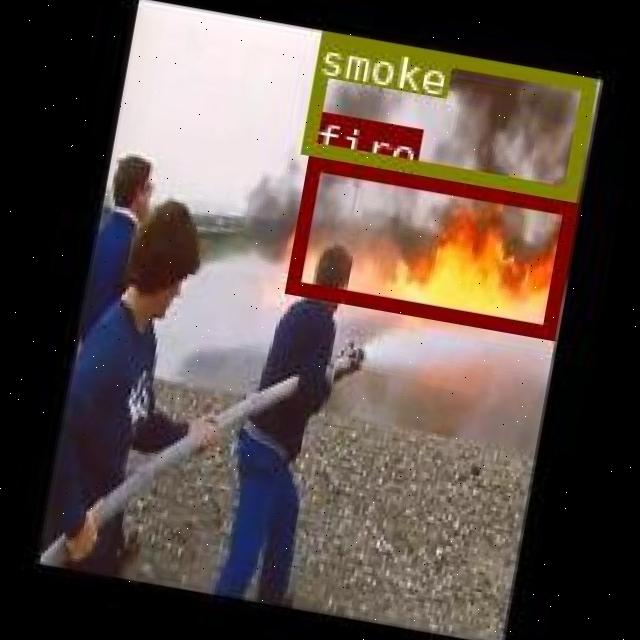fire: (284, 154, 575, 336)
smoke: (300, 29, 594, 197)
